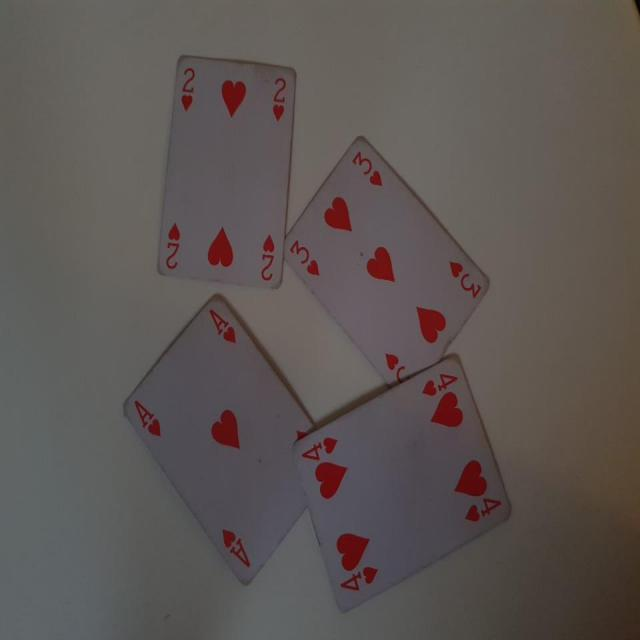2 Hearts: (151, 47, 302, 300)
3 Hearts: (274, 133, 495, 390)
4 Hearts: (289, 352, 520, 617)
A Hearts: (124, 290, 329, 589)
